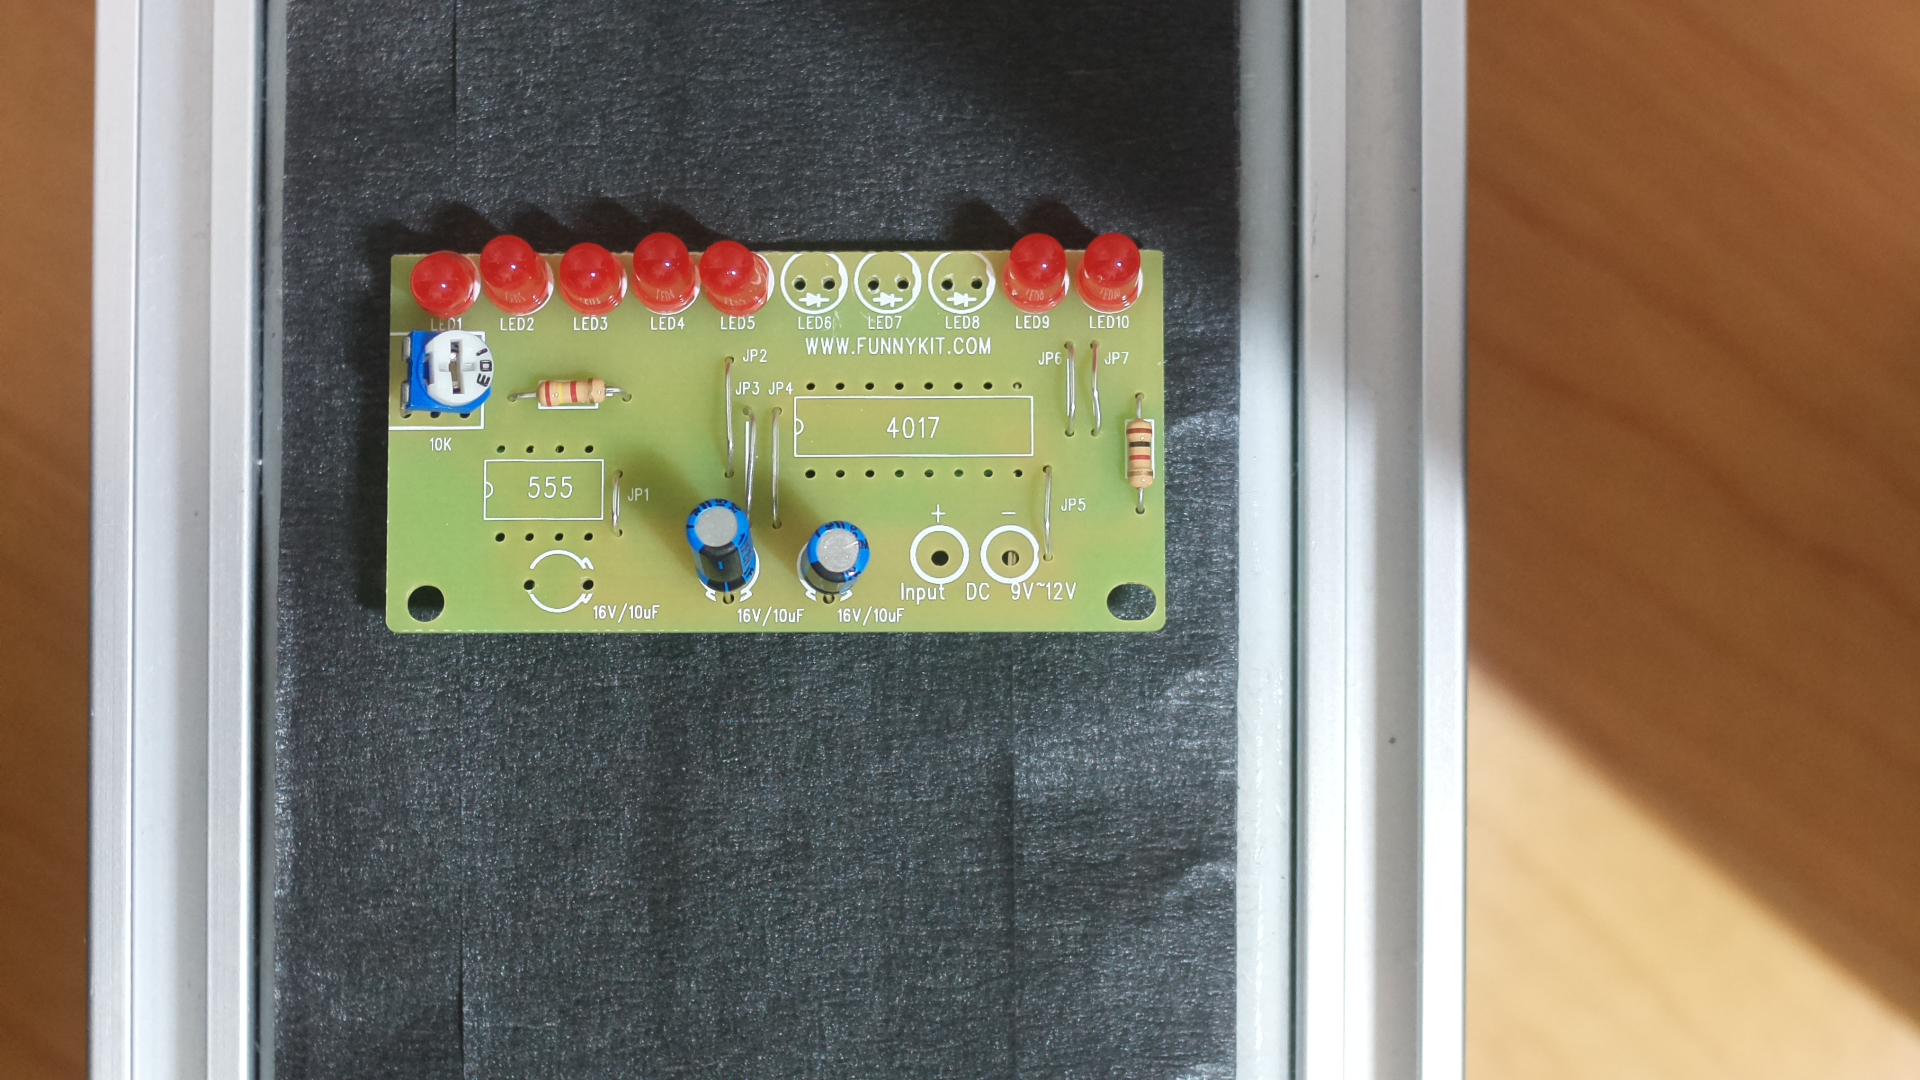B_Missing_part: (378, 225, 1185, 647)
